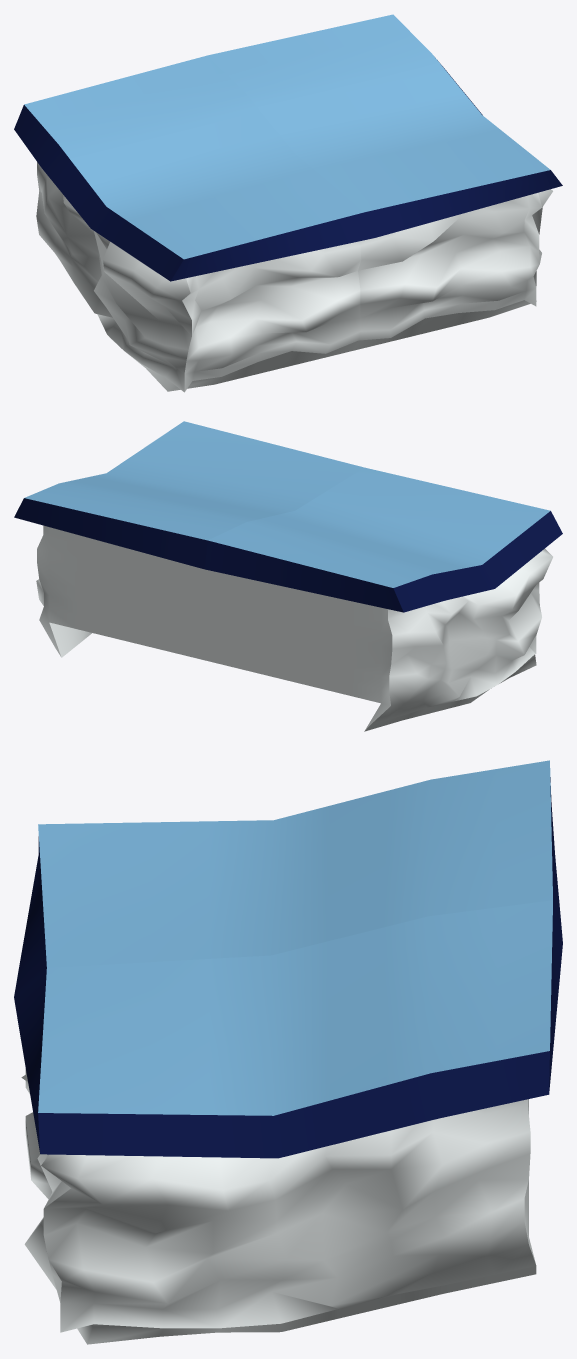
Rendered from platform.fbx.
3 views of the same model, one above another, from view 1: azimuth 30°, elevation 25°; view 2: azimuth 150°, elevation 25°; view 3: azimuth 270°, elevation 25° (orthographic). The views are drawn at different scales.
Parts seen in each view (by area): view 1: pCube3; view 2: pCube3; view 3: pCube3.
Part boxes in pixels (left/top/right/bottom): pCube3: left=14, top=14, right=562, bottom=392; pCube3: left=14, top=421, right=562, bottom=731; pCube3: left=14, top=760, right=562, bottom=1344.
Size of the model in its own units: 28.83 by 12.63 by 20.52.
Materials: 1 (1 with a texture image).
